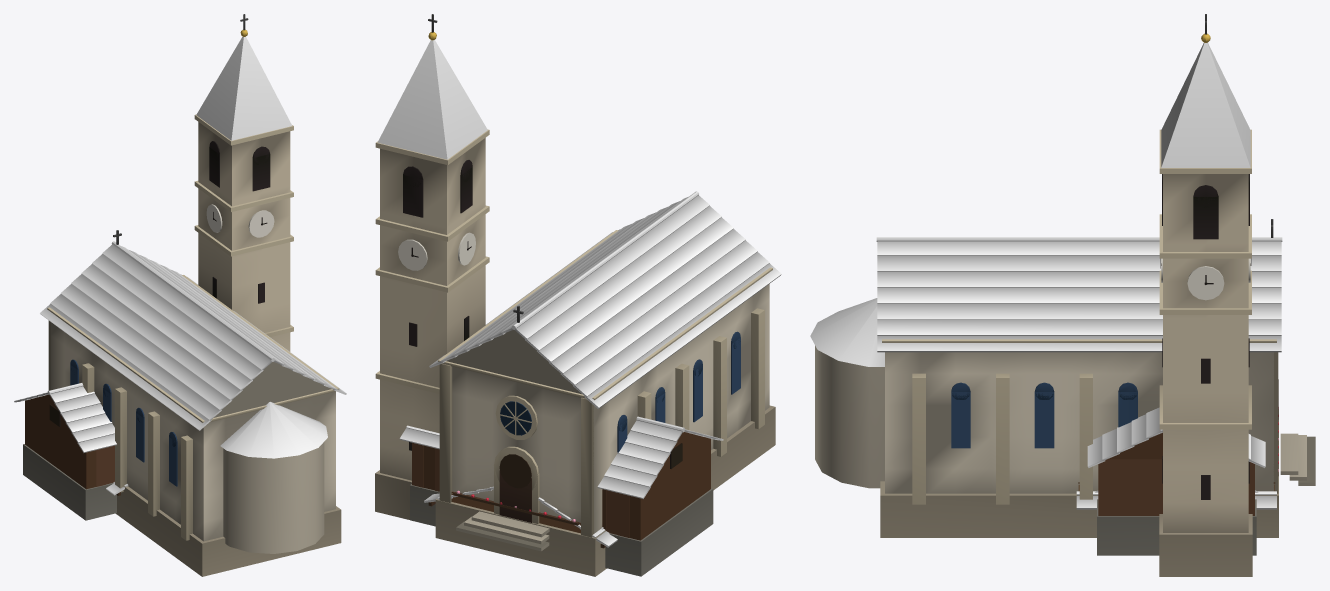
Rendered from country.glb.
3 renders of one model, left to right at view 1: azimuth 30°, elevation 25°; view 2: azimuth 150°, elevation 25°; view 3: azimuth 270°, elevation 25°, orthographic. The views are drawn at different scales.
Visible parts, largest first — view 1: church, barn; view 2: church, barn, alpine_upper, alpine_roof; view 3: church, barn, alpine_roof.
Boxes of the visible parts, x1=… form: church: x1=40, y1=14, x2=346, y2=576; barn: x1=14, y1=383, x2=116, y2=520; church: x1=375, y1=14, x2=781, y2=576; barn: x1=399, y1=416, x2=723, y2=576; alpine_upper: x1=451, y1=490, x2=580, y2=533; alpine_roof: x1=424, y1=486, x2=617, y2=548; church: x1=810, y1=14, x2=1315, y2=576; barn: x1=1087, y1=407, x2=1265, y2=555; alpine_roof: x1=1076, y1=491, x2=1276, y2=509.
Size of the model in its own units: 18.03 by 30.9 by 26.
